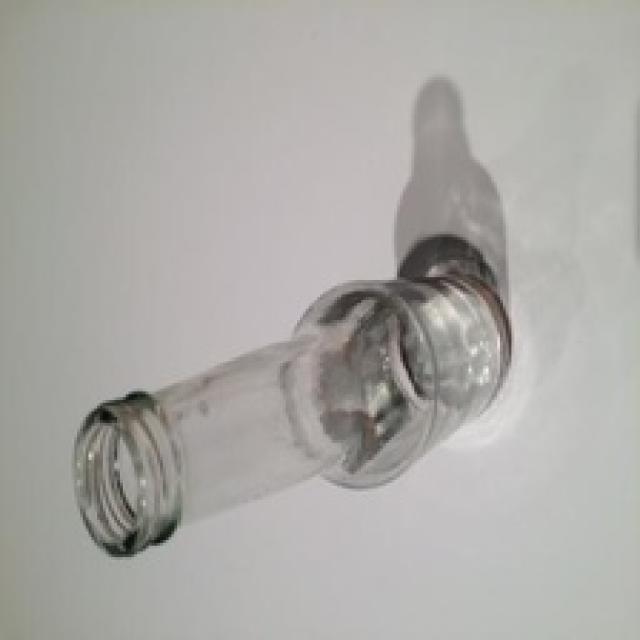Glass: (73, 269, 516, 562)
